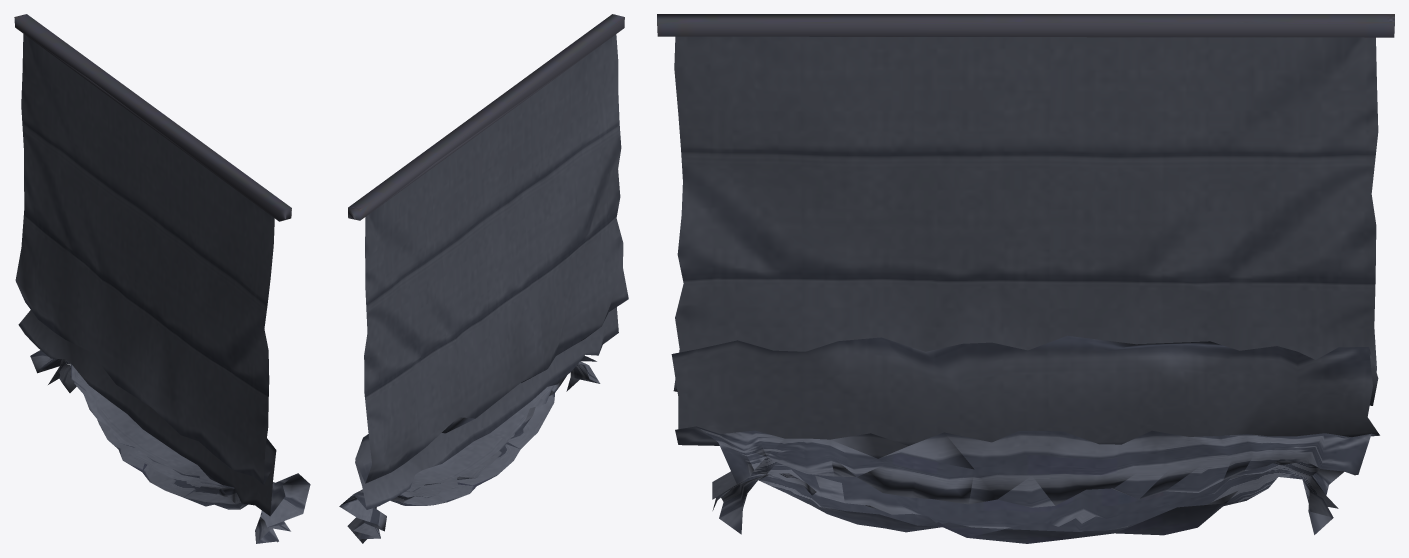
The model's file is Curtains0013.obj.
The picture shows the model from 3 angles, left to right: view 1: azimuth 30°, elevation 25°; view 2: azimuth 150°, elevation 25°; view 3: azimuth 270°, elevation 25°; orthographic projection. The views are drawn at different scales.
Bounding box in the file's own units: 0.174 × 0.85 × 1.11.
1 material, 1 textured.
